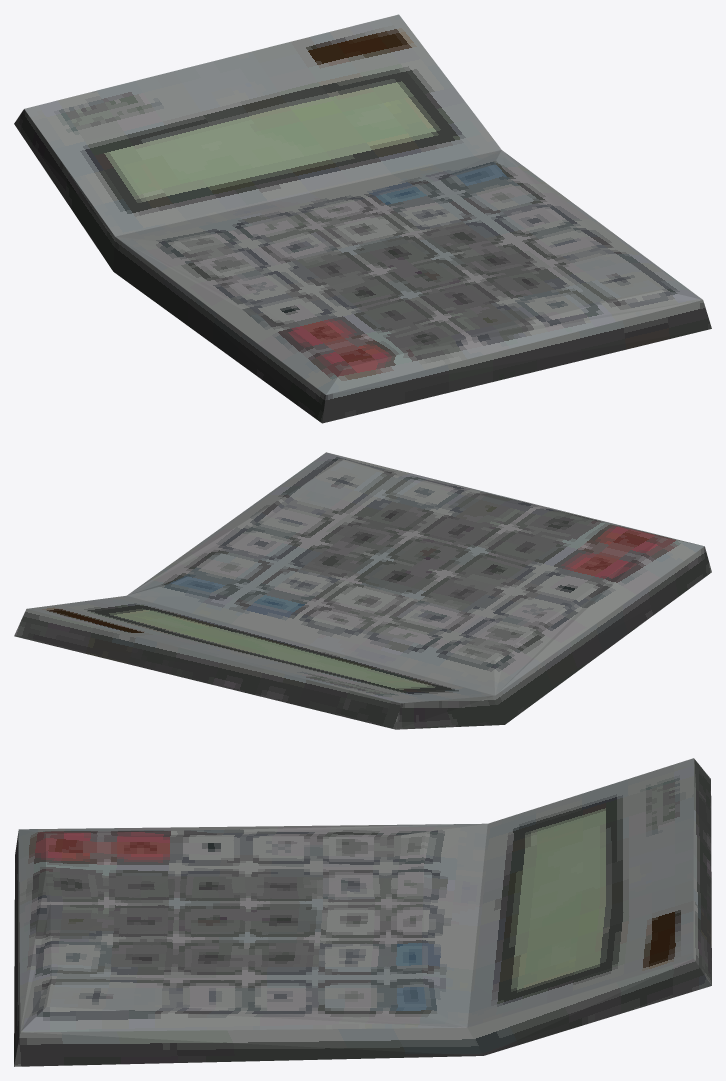
File: item_calculator.glb
The picture shows the model from 3 angles, top to bottom: view 1: azimuth 30°, elevation 25°; view 2: azimuth 150°, elevation 25°; view 3: azimuth 270°, elevation 25°; orthographic projection. The views are drawn at different scales.
Visible parts, largest first — view 1: Office_Calculator; view 2: Office_Calculator; view 3: Office_Calculator.
Boxes of the visible parts, <box> form: Office_Calculator: <box>14,14,711,423</box>; Office_Calculator: <box>14,452,711,729</box>; Office_Calculator: <box>14,758,711,1066</box>.
Bounding box in the file's own units: 0.1889 × 0.0428 × 0.2596.
Materials: 1 (1 with a texture image).
